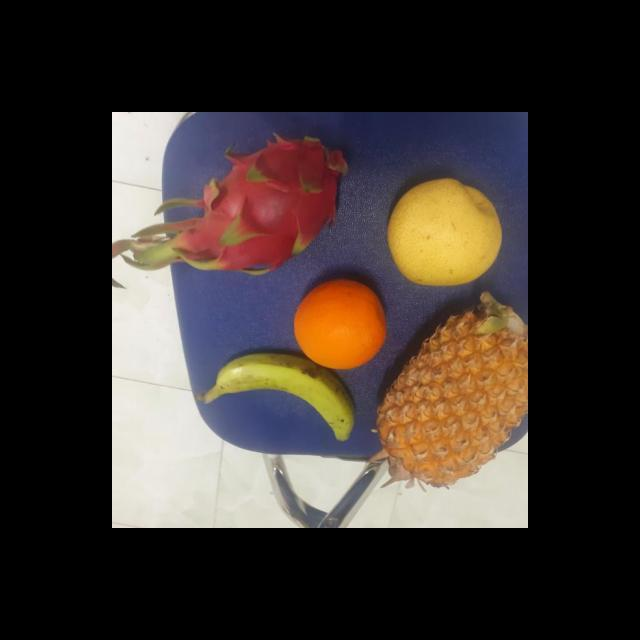banana: (211, 352, 362, 446)
orange: (295, 278, 392, 369)
pear: (389, 179, 506, 287)
pineapple: (383, 299, 528, 485)
pitaya: (186, 139, 350, 275)
